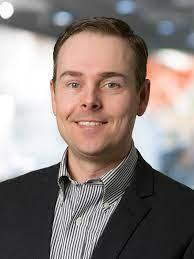Persons: (48, 11, 154, 166)
